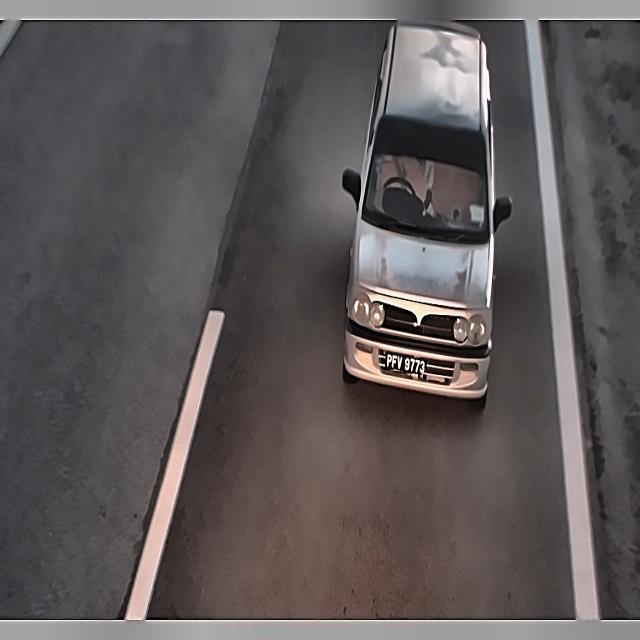car: (378, 342, 436, 385)
